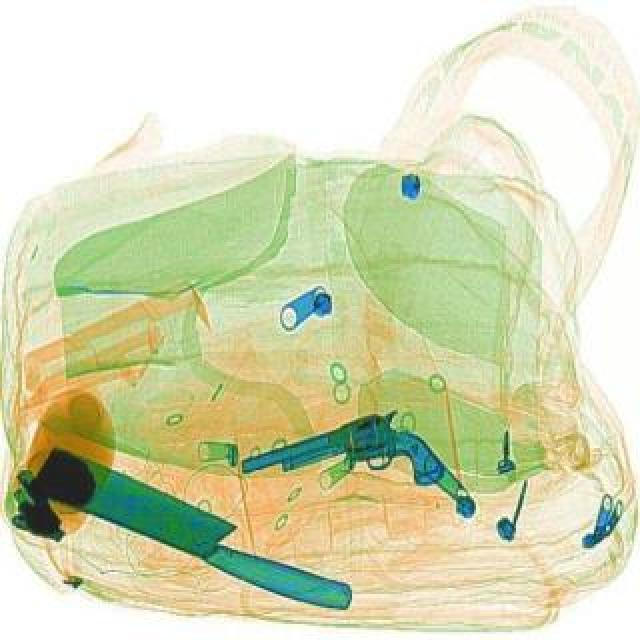gun: (236, 402, 414, 506), (280, 414, 448, 518)
knife: (22, 442, 366, 616)
